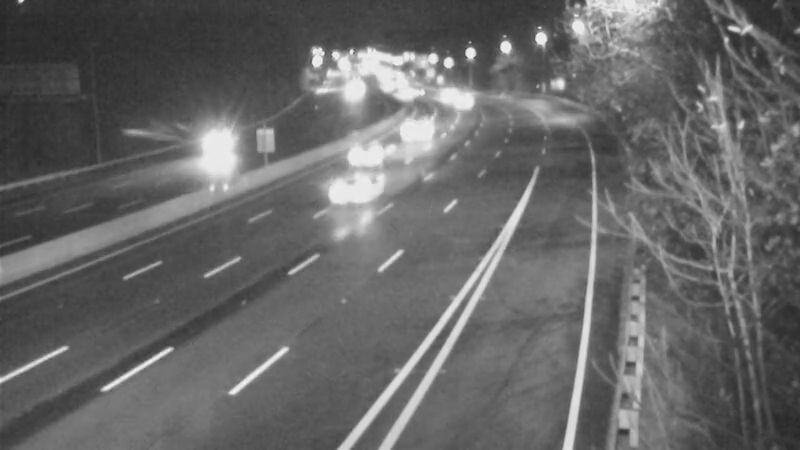vehicle: (329, 114, 409, 194), (310, 152, 390, 232), (378, 69, 428, 119), (417, 67, 467, 117), (435, 78, 485, 128), (394, 104, 444, 154), (198, 116, 248, 166), (331, 68, 381, 118)
